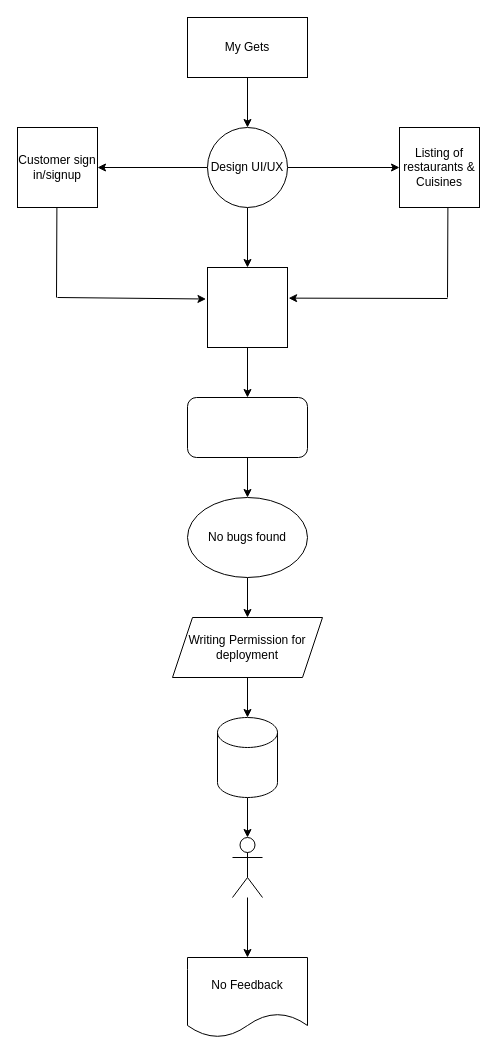
Some shapes in this 497 by 1055 pixel diagram are drawn without their labels. The shapes that lost their labels are listed below. From the top down, each one's centre as x and y in pixels, then its label:
At pixel 247 307: "Checkout page and RTS".
At pixel 247 427: "Compiling code into APK".
At pixel 247 757: "Deploy".
At pixel 247 867: "Customer using Application".
